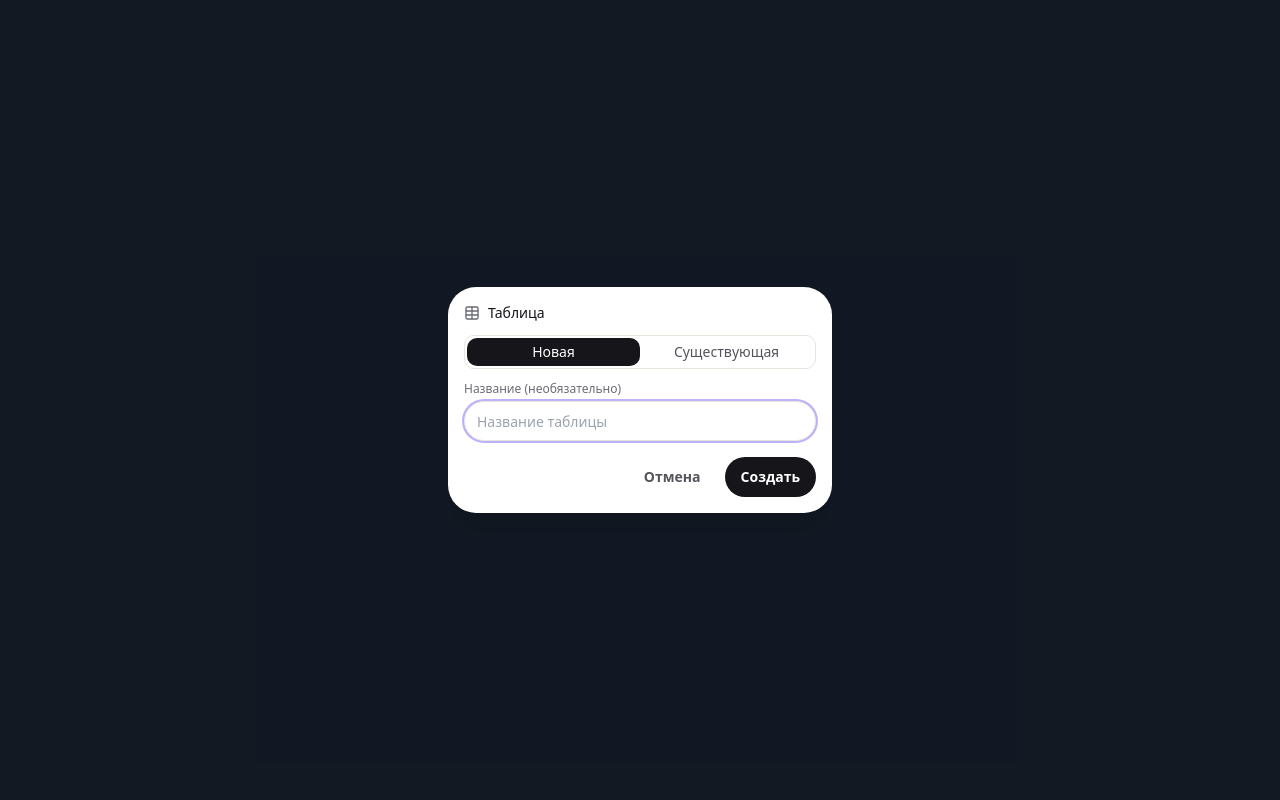
InsertTableModal › filters the existing-tables list by search query
Click the button "Существующая" at (726, 352), box top-left (640, 338), bottom-right (813, 366)
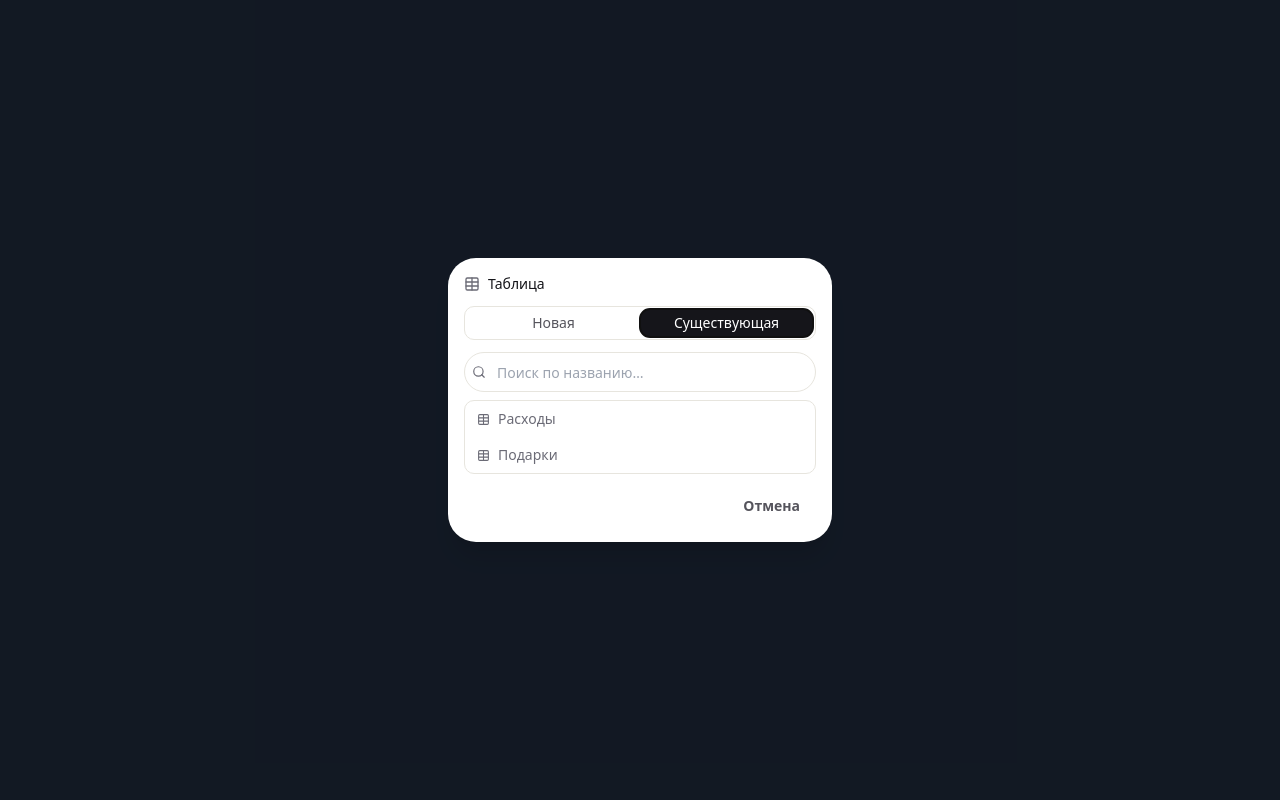
Type "подар" into the field with placeholder "Поиск по названию…" at (640, 372), box top-left (464, 352), bottom-right (816, 392)
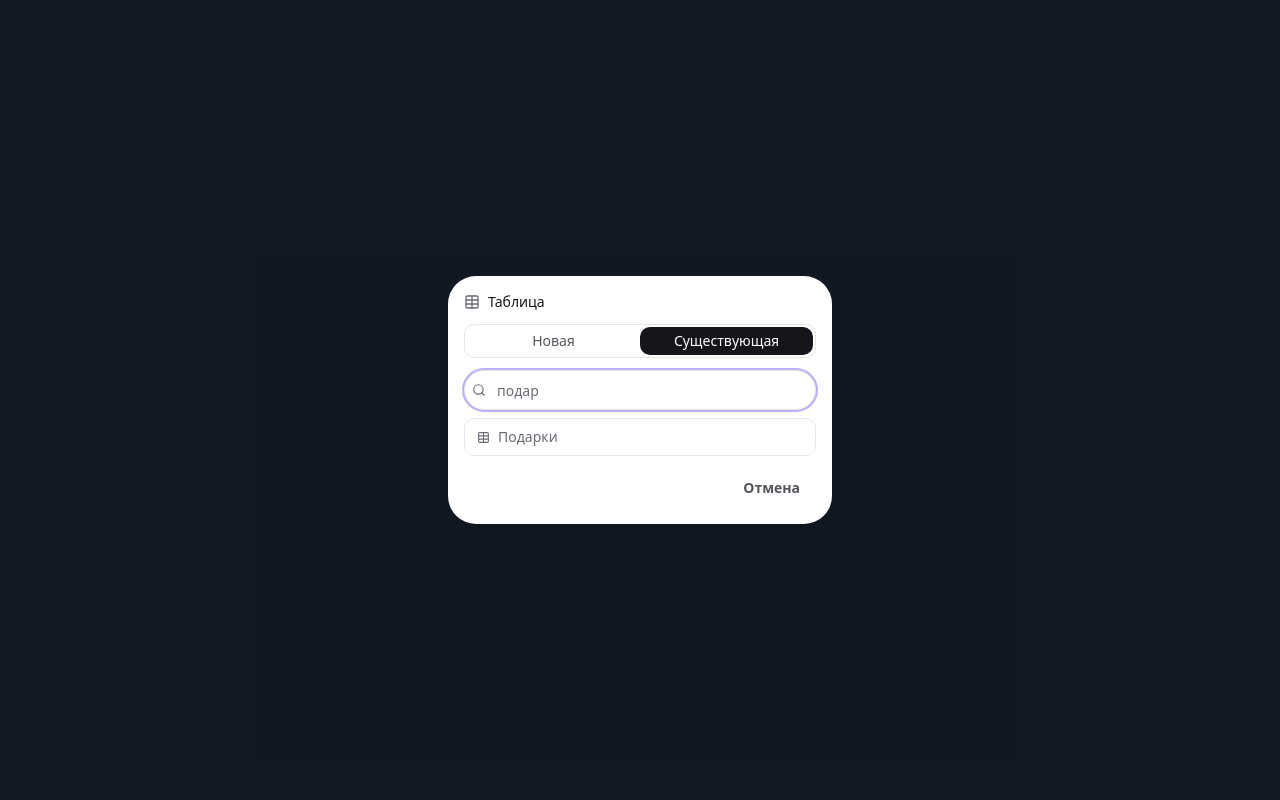
expect the text "Подарки" is shown: met, box top-left (498, 427), bottom-right (558, 447)
expect the button "Расходы" is gone: met
